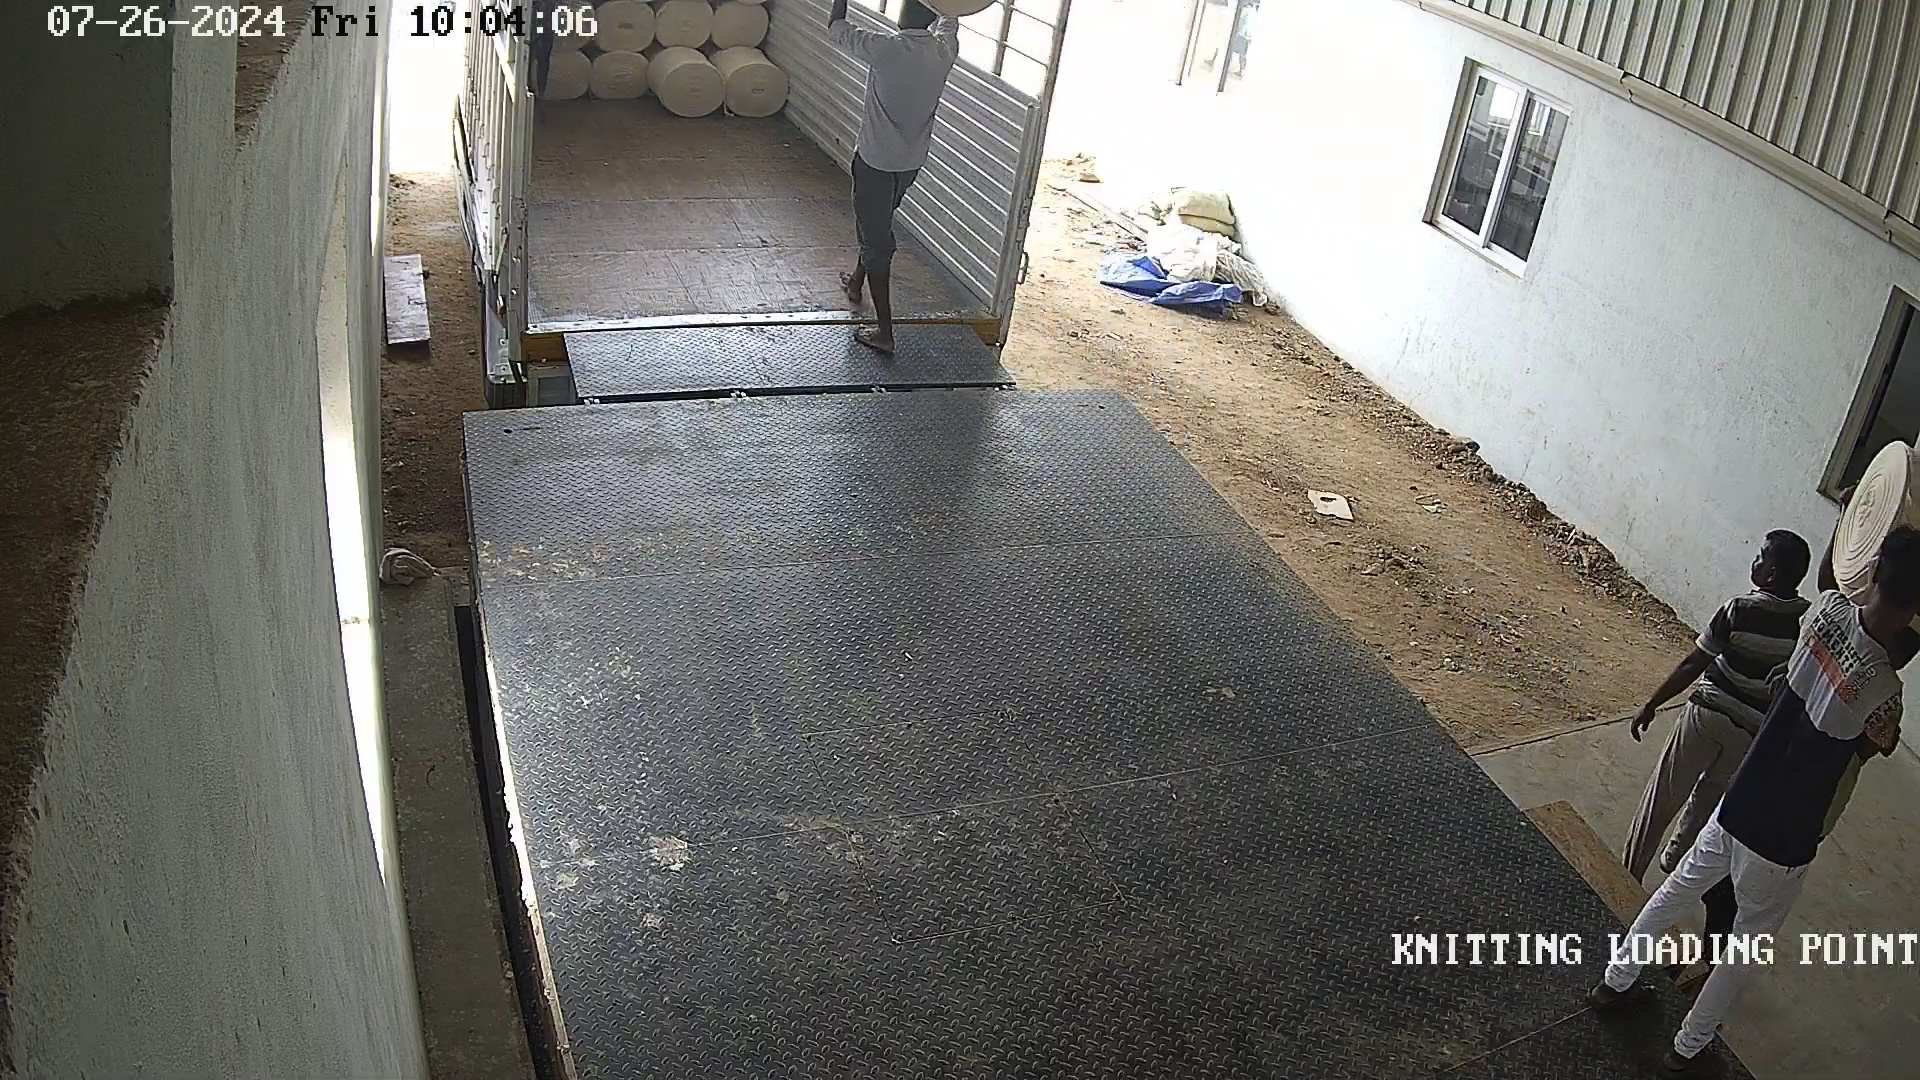bag: (1818, 440, 1920, 603)
